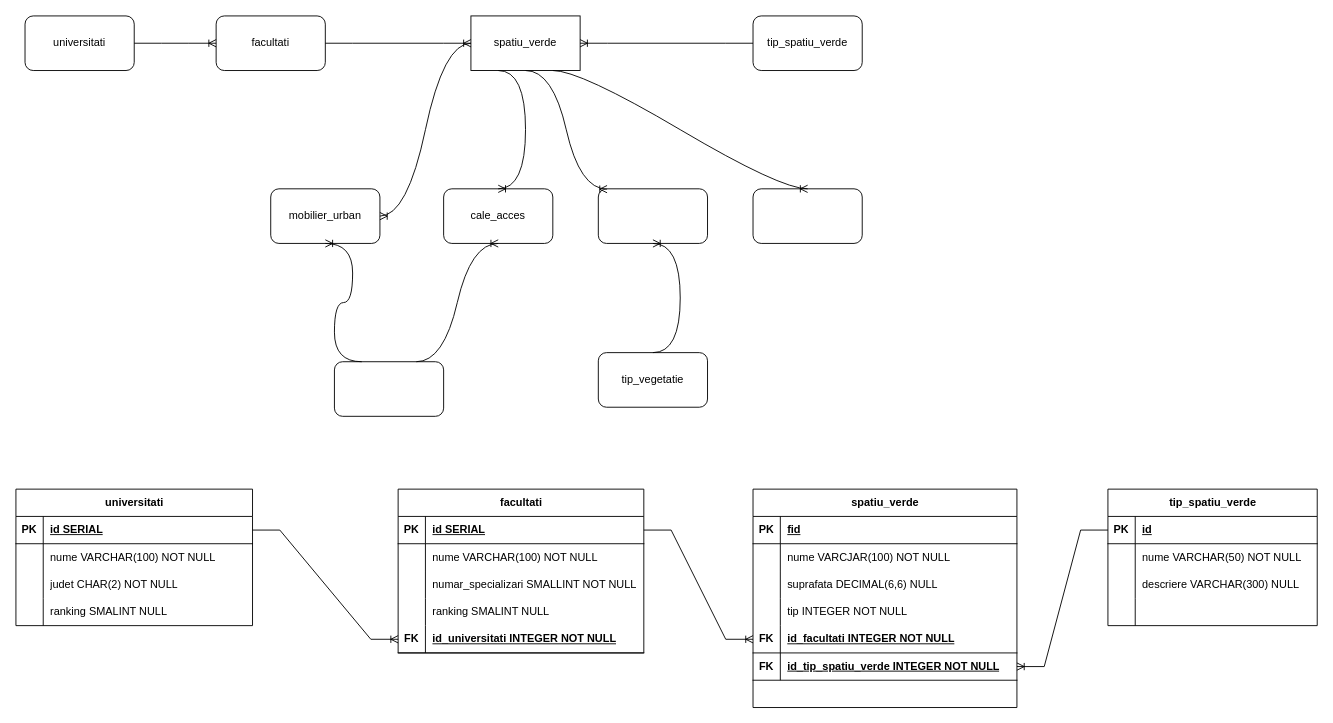
Some shapes in this 1333 by 723 pixel diagram are drawn without their labels. The centre of each missing label's shape, as x and y in pixels:
"iluminat" belongs at [807,215].
"stare_urilizare" belongs at [389,388].
"vegetatie" belongs at [652,215].
